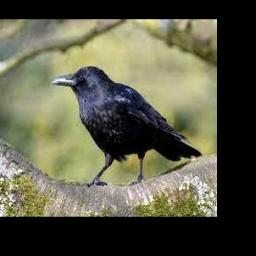Crow: (51, 66, 202, 187)
